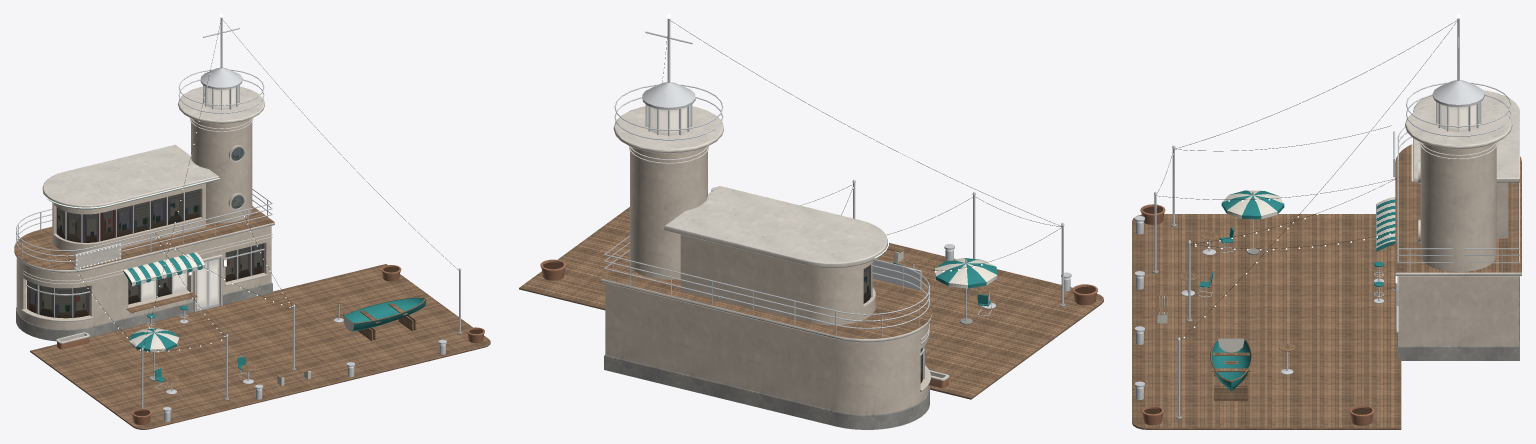
The model's file is plot_marina_office.gltf.
3 renders of one model, left to right at view 1: azimuth 30°, elevation 25°; view 2: azimuth 150°, elevation 25°; view 3: azimuth 270°, elevation 25°, orthographic. The views are drawn at different scales.
Visible parts, largest first — view 1: plot_marina_office_mesh, sign_face; view 2: plot_marina_office_mesh; view 3: plot_marina_office_mesh.
Boxes of the visible parts, x1,y1,x2,y2 form: plot_marina_office_mesh: [14, 14, 490, 429]; sign_face: [76, 245, 120, 268]; plot_marina_office_mesh: [519, 14, 1103, 429]; plot_marina_office_mesh: [1132, 14, 1521, 429].
Size of the model in its own units: 19.4 by 13.97 by 14.92.
12 materials, 7 textured.
